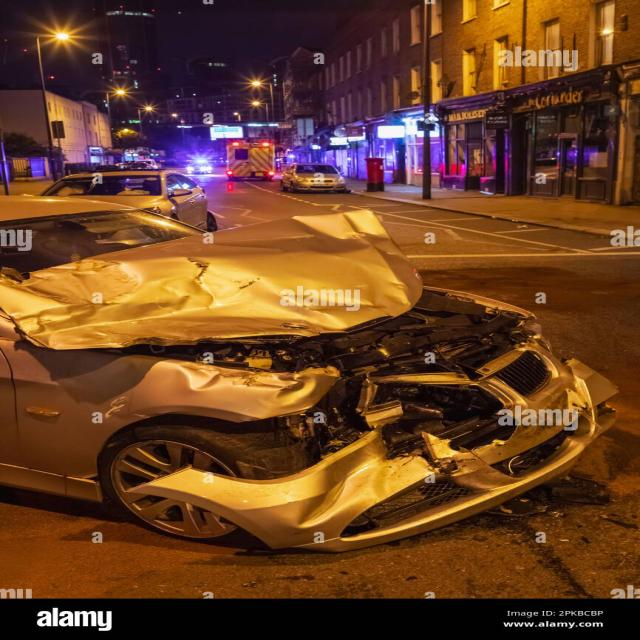Accident: (0, 189, 610, 557)
